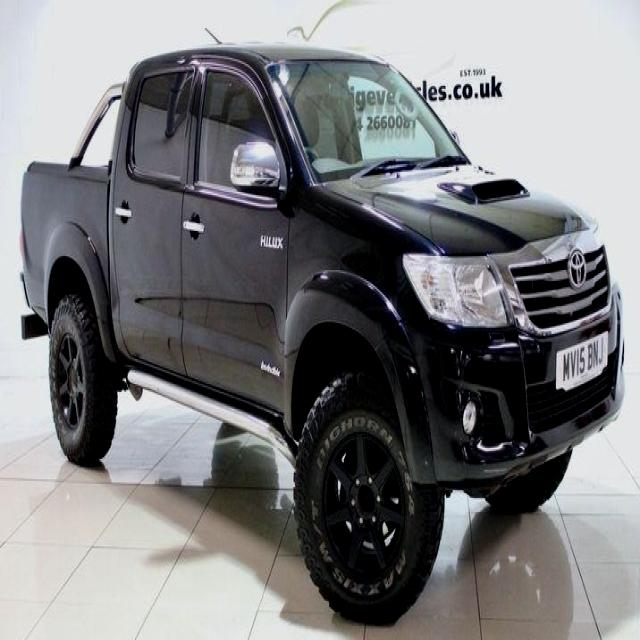CMT: (34, 32, 630, 602)
